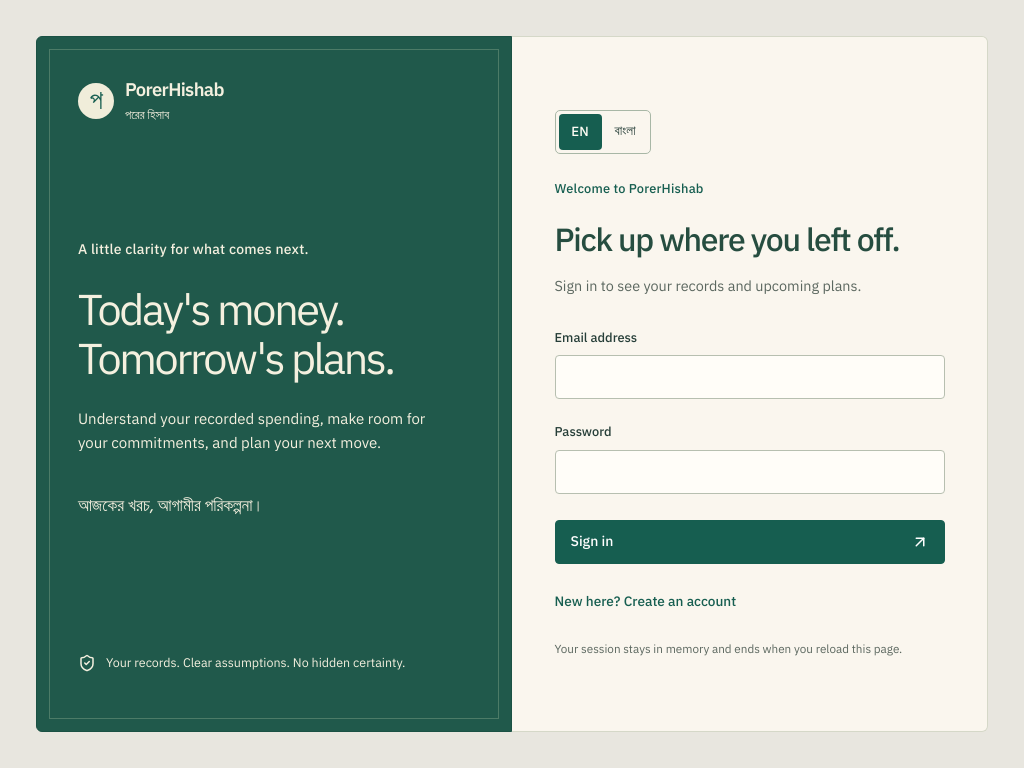
Authentication flow › signs in and opens the protected workspace
This screenshot has width=1024, height=768.
In the field labelled "Email address": (750, 378) [554,356,944,400], type "test@example.com"
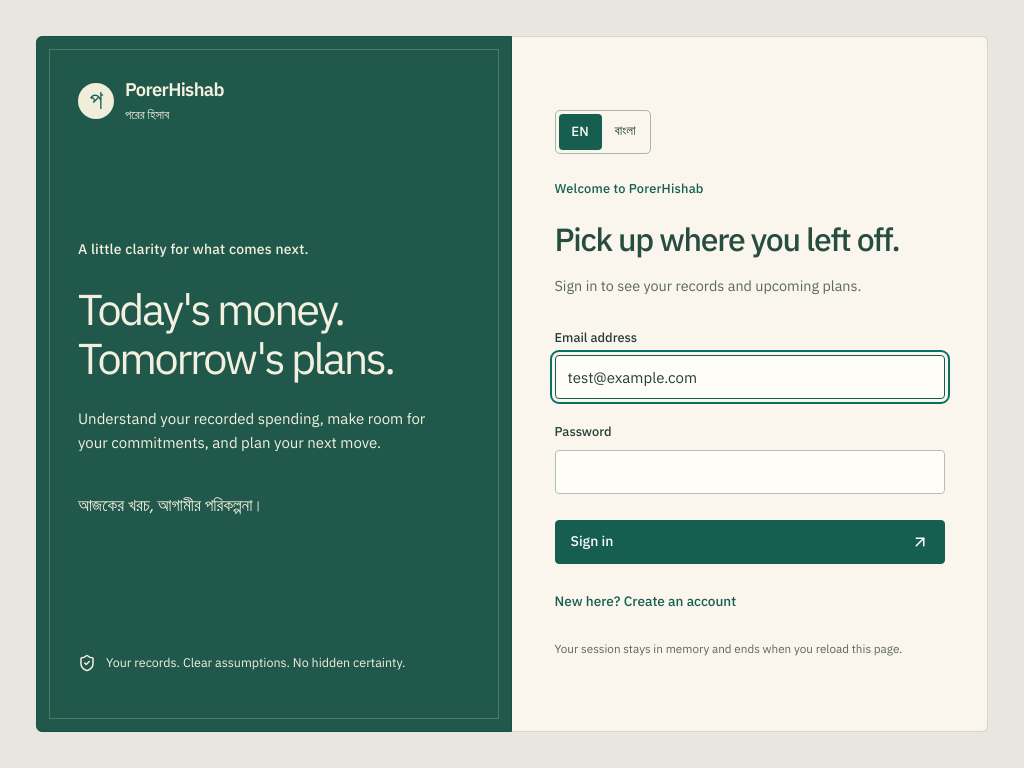
In the password field labelled "Password": (750, 472) [554,450,944,494], type "password123"
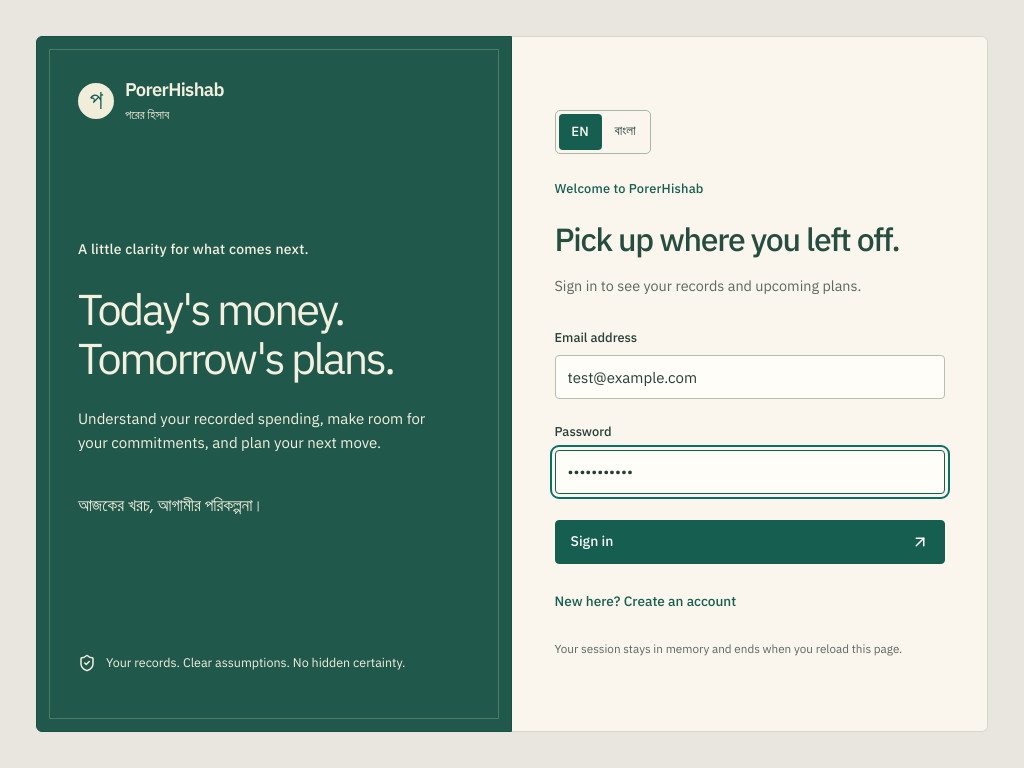
Click the button "Sign in": click(592, 541) [554,520,944,564]
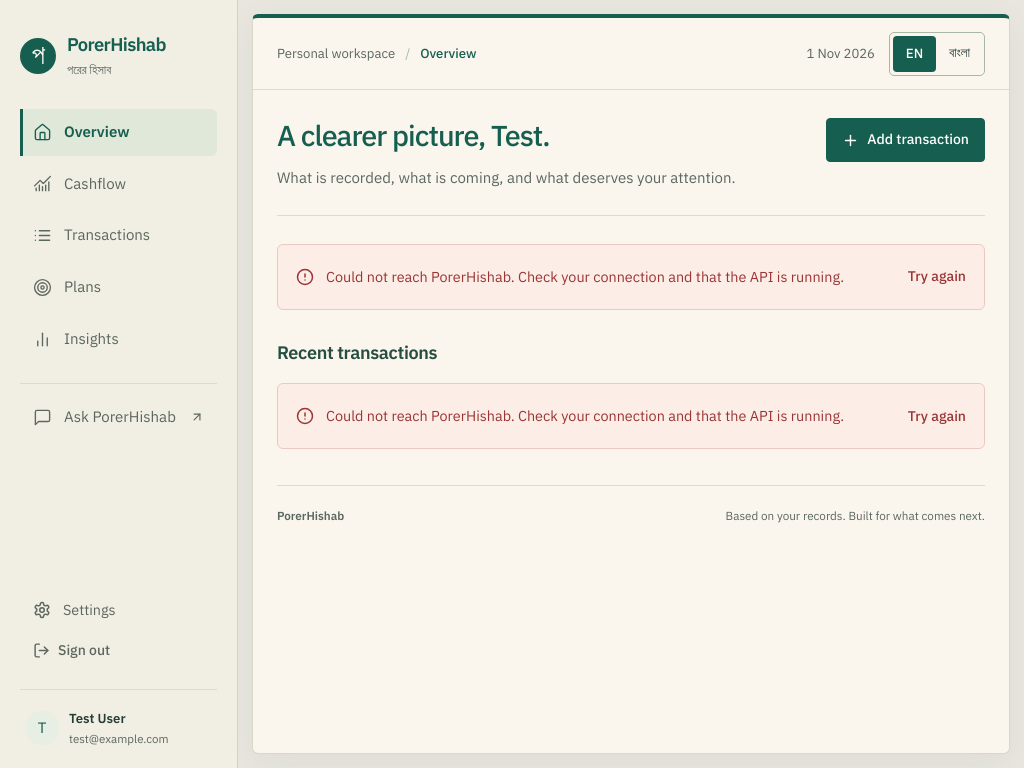
Now the text "Test User" is shown, box [69,710,126,727]
